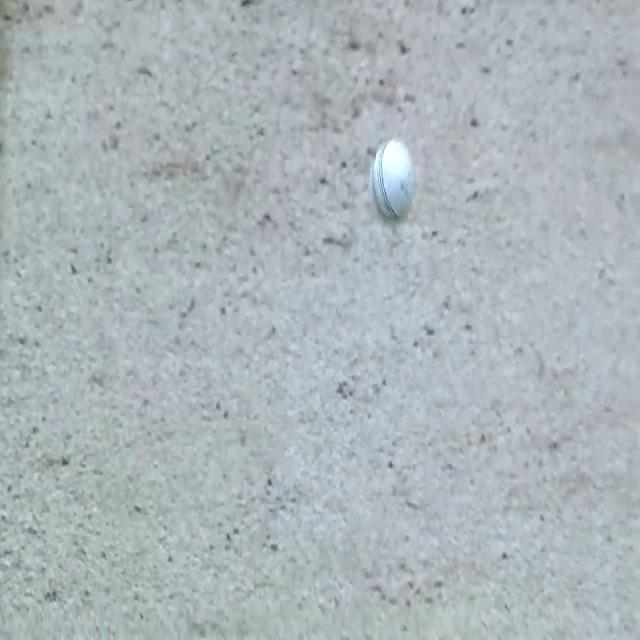ball: (366, 129, 419, 226)
